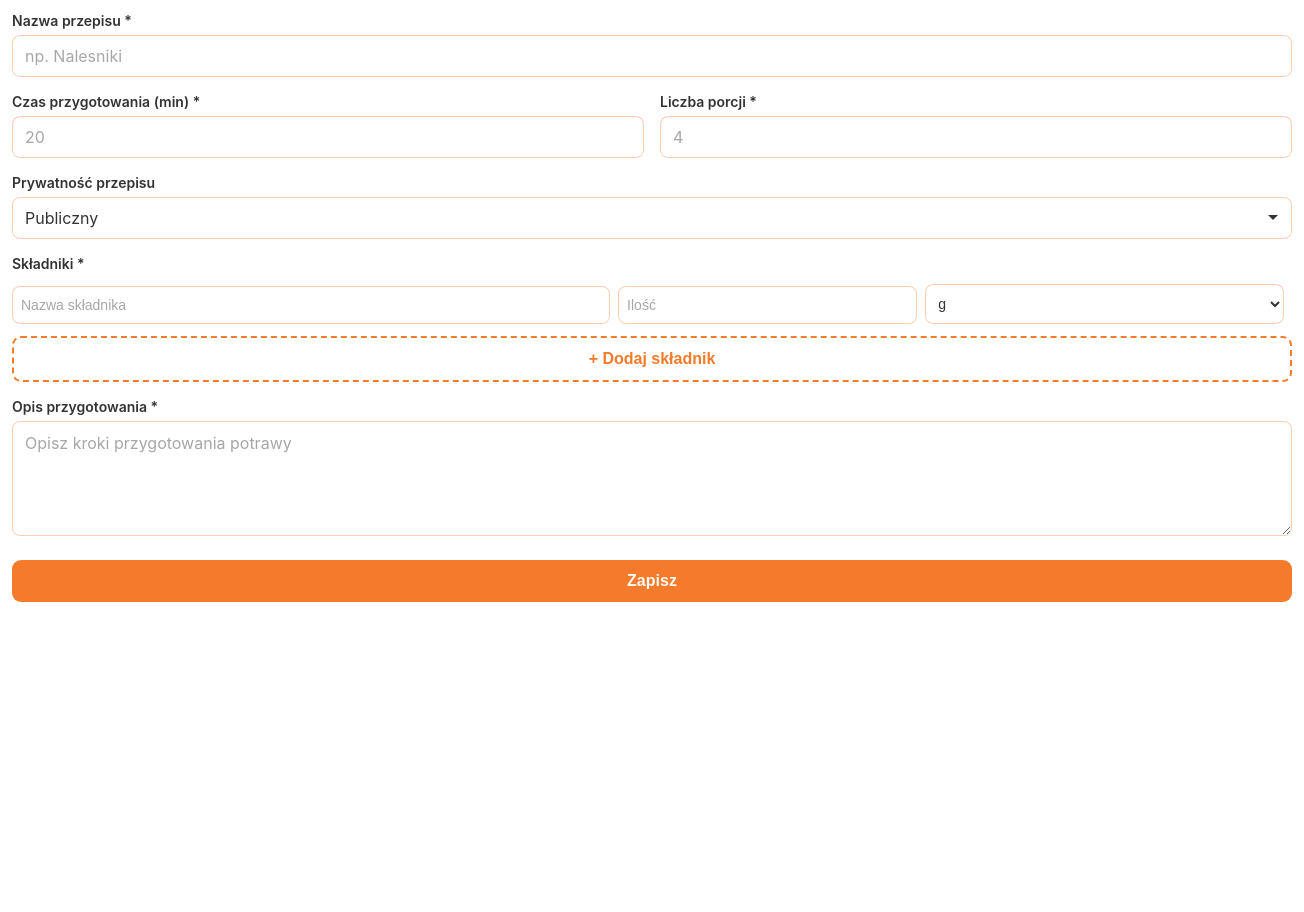
Test: RecipeForm › shows validation errors when empty form is submitted
Click the button "Zapisz".
click(652, 581)  # box [12,560,1292,602]
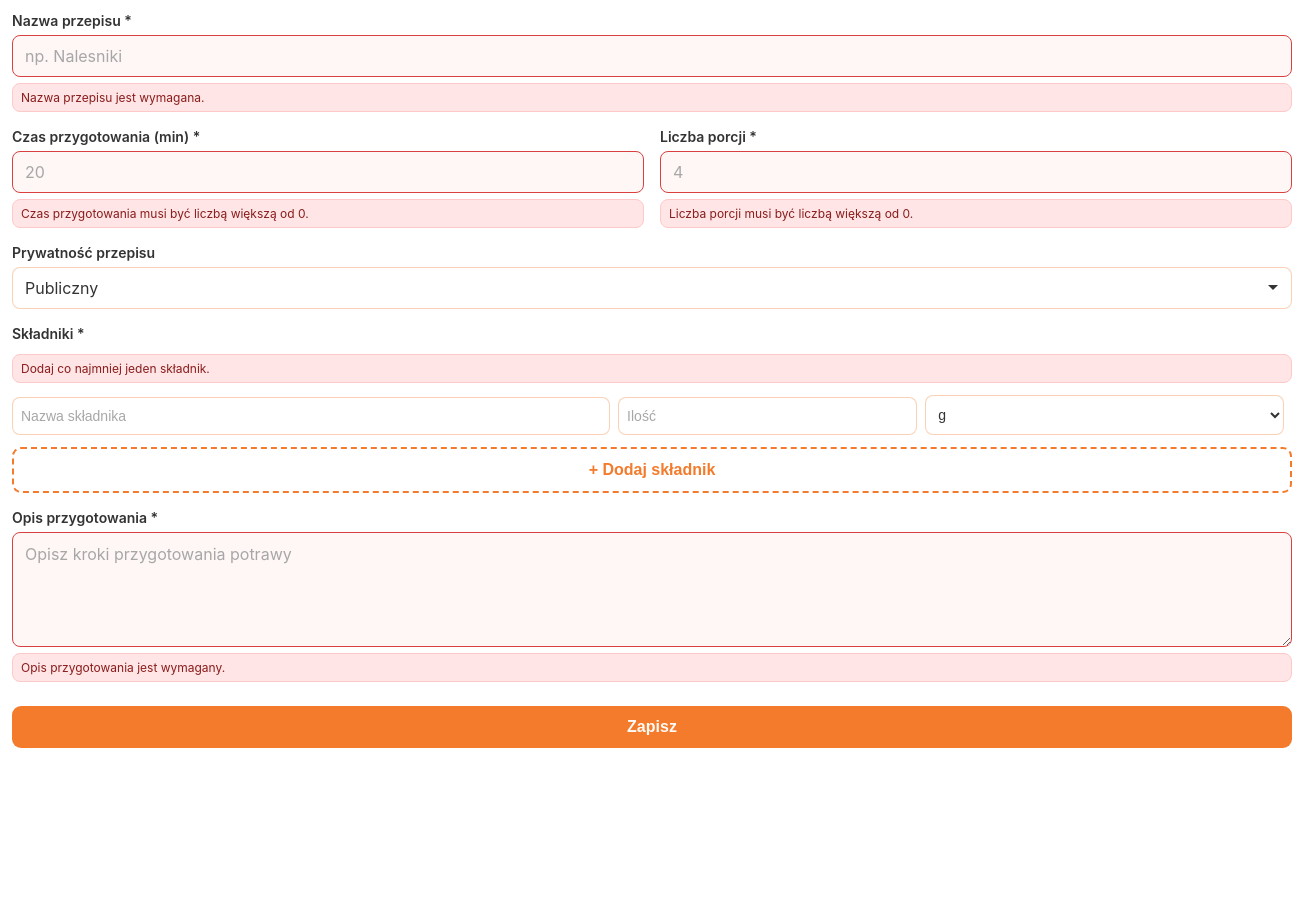
Check: the text "Nazwa przepisu jest wymagana." is shown, box [12,83,1292,112]
Check: the text "Opis przygotowania jest wymagany." is shown, box [12,653,1292,682]
Check: the text "Czas przygotowania musi być liczbą większą od 0." is shown, box [12,199,644,228]
